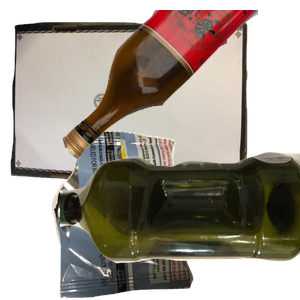cardboard: (10, 19, 250, 199)
glass: (60, 10, 300, 163)
plastic: (60, 149, 300, 300)
trash: (49, 130, 235, 300)
